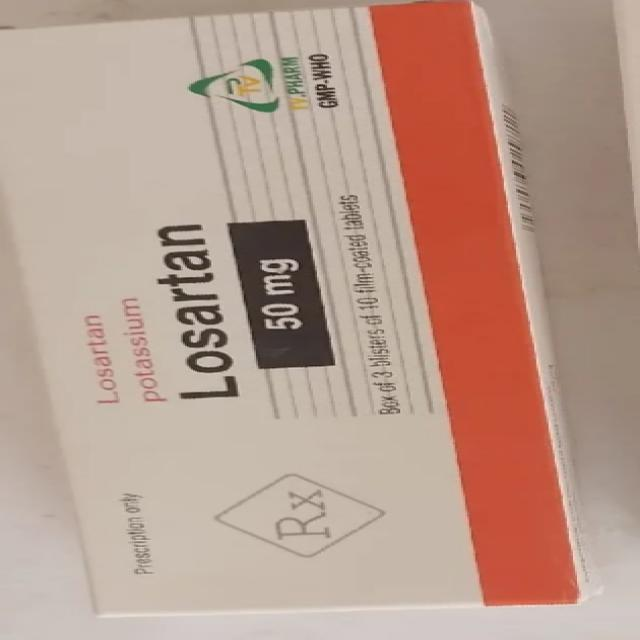drug-name: (150, 217, 246, 403)
